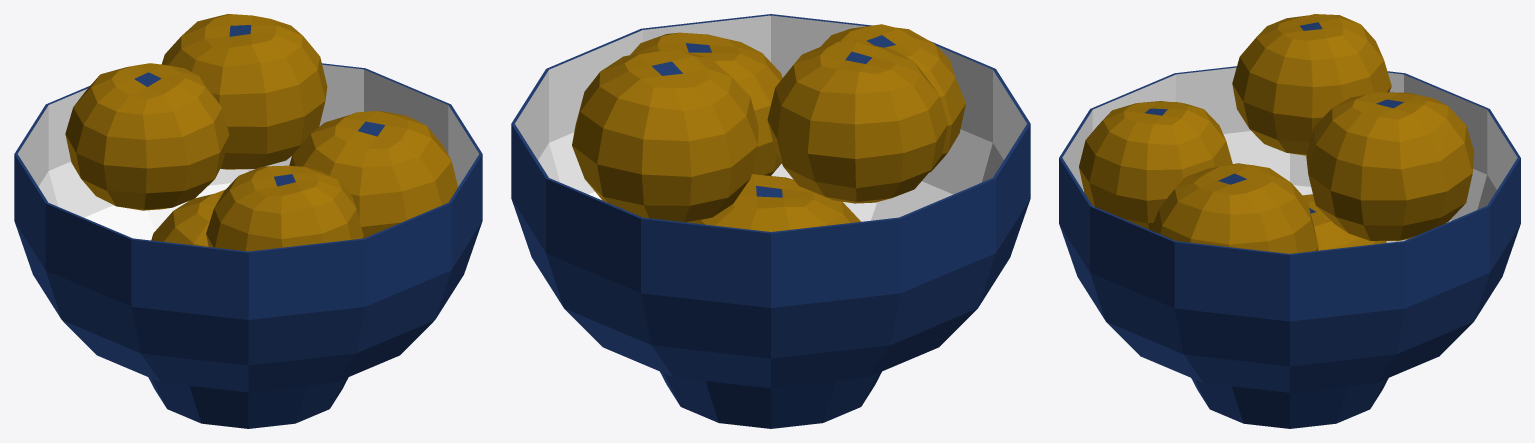
Rendered from oranges2.glb.
3 renders of one model, left to right at view 1: azimuth 30°, elevation 25°; view 2: azimuth 150°, elevation 25°; view 3: azimuth 270°, elevation 25°, orthographic. The views are drawn at different scales.
Parts seen in each view (by area): view 1: SM_wan02_yecan_blue_0; view 2: SM_wan02_yecan_blue_0; view 3: SM_wan02_yecan_blue_0.
Boxes of the visible parts, left/top/right/bottom form: SM_wan02_yecan_blue_0: left=14, top=14, right=482, bottom=428; SM_wan02_yecan_blue_0: left=511, top=14, right=1030, bottom=428; SM_wan02_yecan_blue_0: left=1059, top=14, right=1520, bottom=428.
Size of the model in its own units: 95.35 by 73.29 by 95.35.
3 materials, 3 textured.
